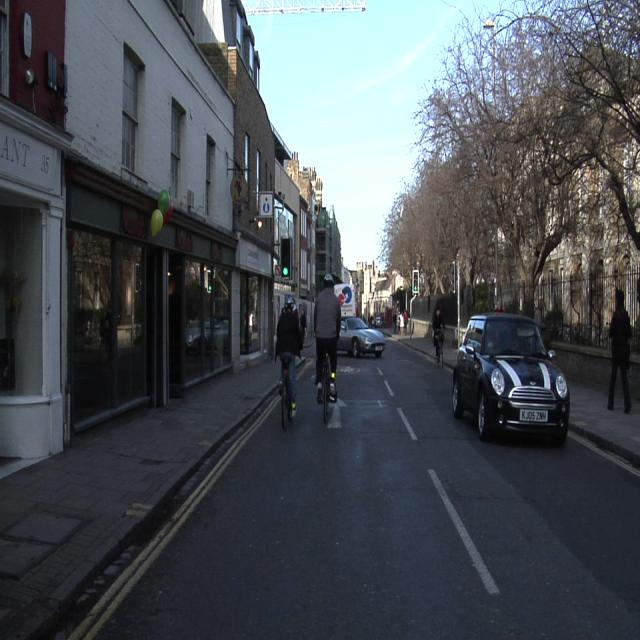Bicyclist: (314, 274, 340, 418), (276, 300, 303, 427), (433, 306, 443, 365), (433, 309, 444, 362)
Building: (2, 0, 343, 472)
Car: (453, 313, 571, 444), (338, 317, 384, 356)
Road: (94, 340, 635, 638)
Tree: (387, 1, 638, 293)
person: (609, 292, 631, 411), (401, 311, 407, 333)
